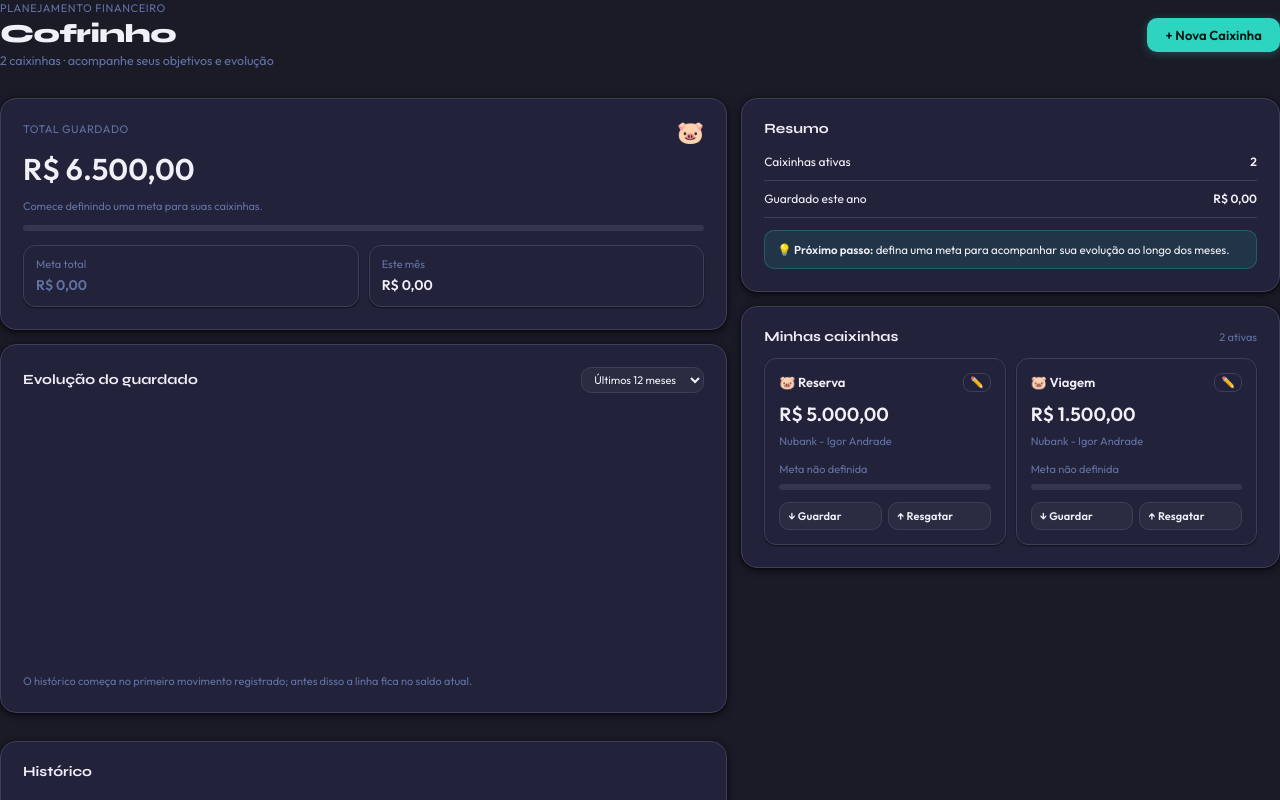
moving money has no cap › warns that a large withdrawal goes negative, without blocking it
This screenshot has width=1280, height=800.
Click the button "↑ Resgatar" below "R$ 5.000,00" at (939, 516), box [888,502,991,530]
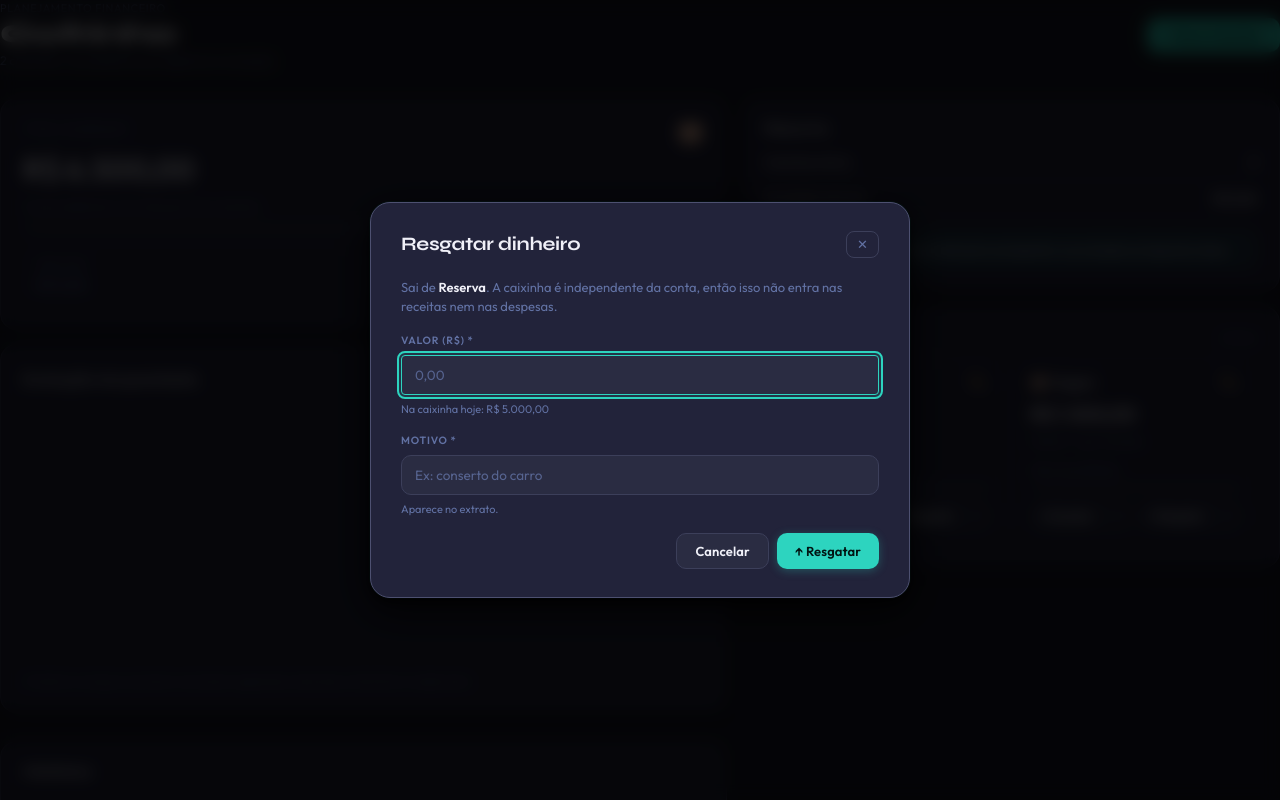
Type "999.999,00" into the field with placeholder "0,00" at (640, 374), box [401,354,879,394]
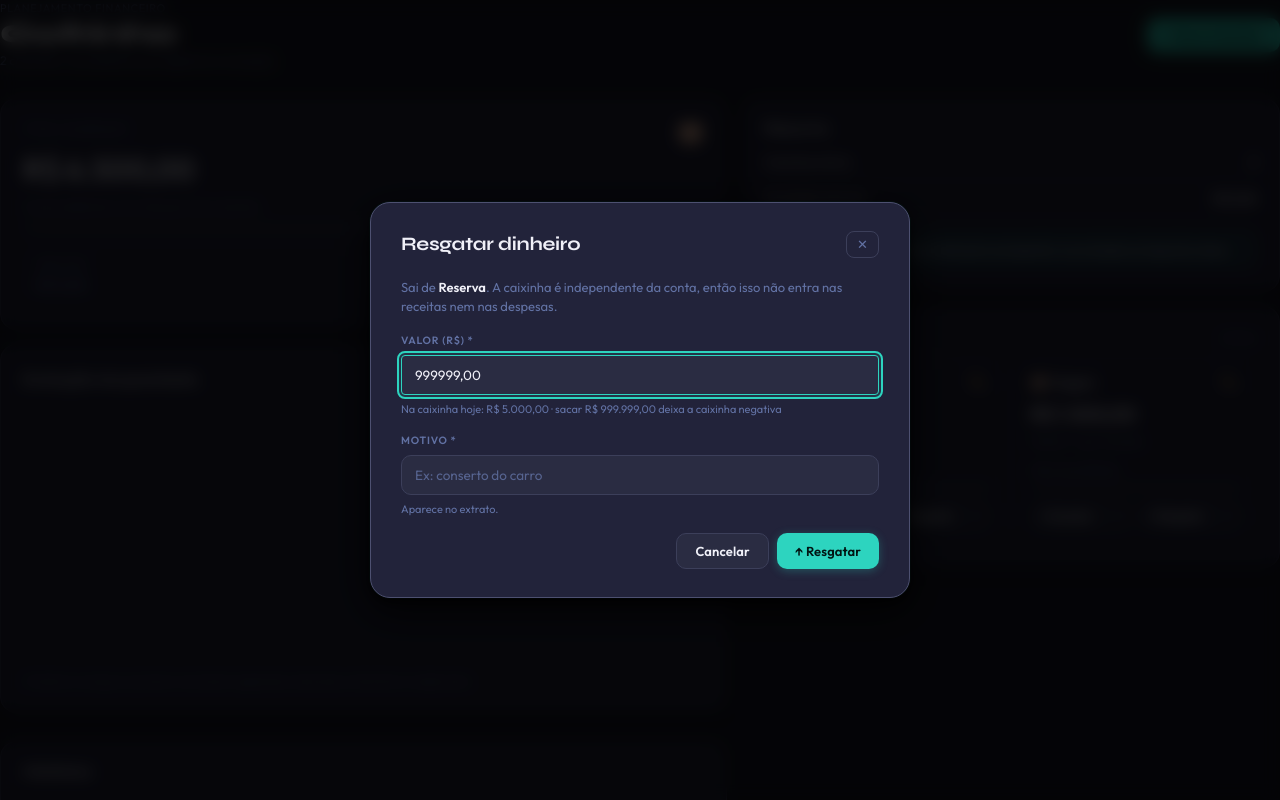
Now the text "deixa a caixinha negativa" is shown, box [549,402,782,416]
